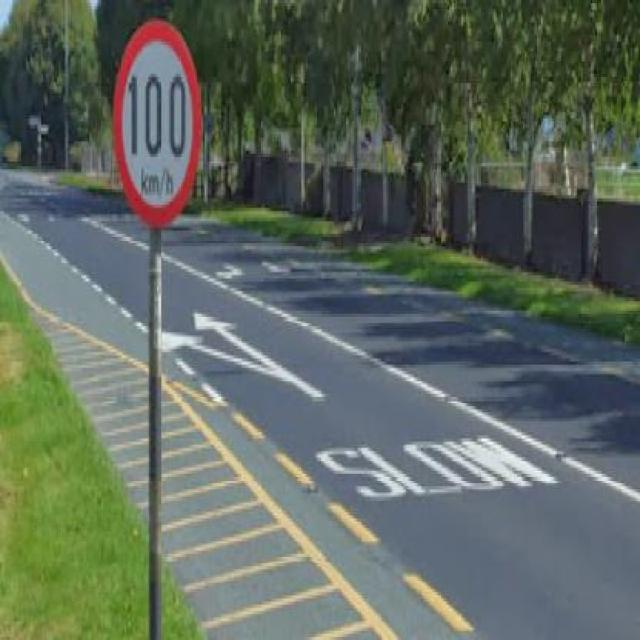forb_speed_over_100: (114, 18, 200, 234)
